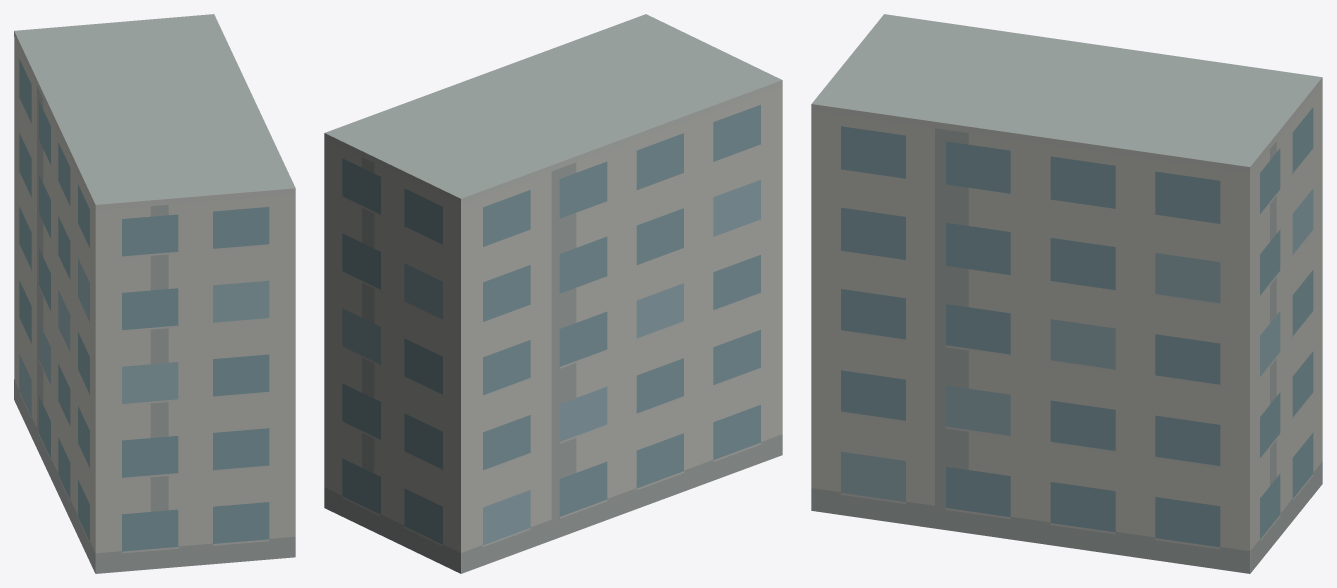
Rendered from residential-22ee8b7a-37f8-41ea-9d74-7b68bd2bfb2c.glb.
3 renders of one model, left to right at view 1: azimuth 30°, elevation 25°; view 2: azimuth 150°, elevation 25°; view 3: azimuth 270°, elevation 25°, orthographic. The views are drawn at different scales.
Parts seen in each view (by area): view 1: residential-22ee8b7a-37f8-41ea-9d74-7b68bd2bfb2c.tmp; view 2: residential-22ee8b7a-37f8-41ea-9d74-7b68bd2bfb2c.tmp; view 3: residential-22ee8b7a-37f8-41ea-9d74-7b68bd2bfb2c.tmp.
Boxes of the visible parts, x1,y1,x2,y2 form: residential-22ee8b7a-37f8-41ea-9d74-7b68bd2bfb2c.tmp: [14, 14, 295, 573]; residential-22ee8b7a-37f8-41ea-9d74-7b68bd2bfb2c.tmp: [324, 14, 782, 573]; residential-22ee8b7a-37f8-41ea-9d74-7b68bd2bfb2c.tmp: [811, 14, 1322, 573].
Size of the model in its own units: 12.32 by 15.25 by 17.38.
